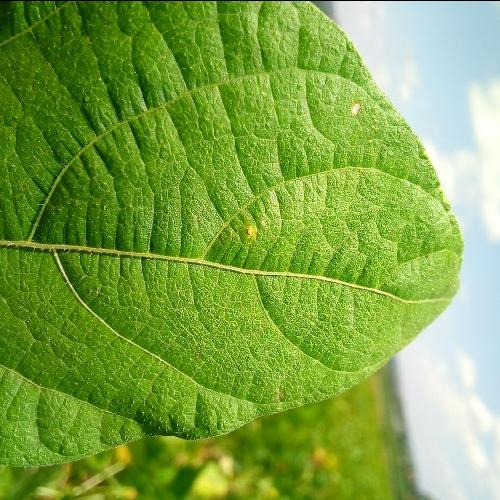hawar: (340, 98, 368, 120), (234, 221, 262, 243)
sehat: (9, 32, 267, 194), (22, 294, 304, 384)
